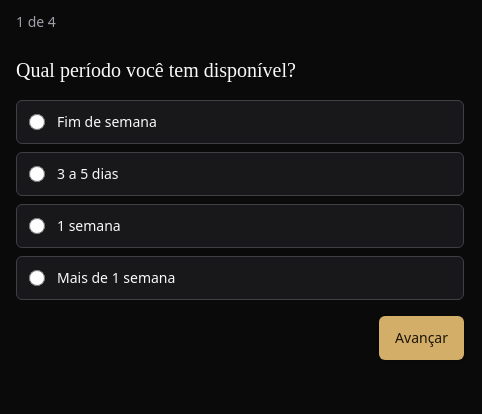
Test: QuizWizard (T03a-d, RF-03) › bloqueia o avanço sem selecionar período, mostra mensagem e não navega
Click the button "Avançar".
click(422, 338)  # box 379,316 -> 464,360
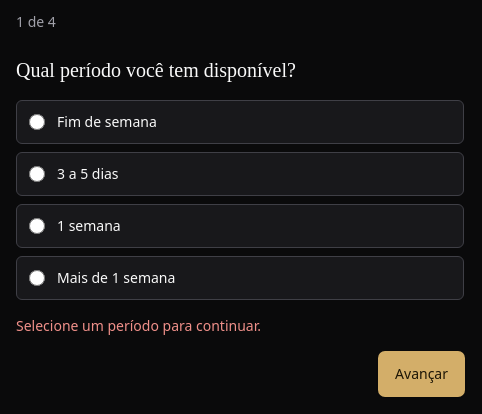
Expected: the text "1 de 4" is shown, 16,12 -> 56,31
Result: the message reads "Selecione um período para continuar." at 16,316 -> 261,335
